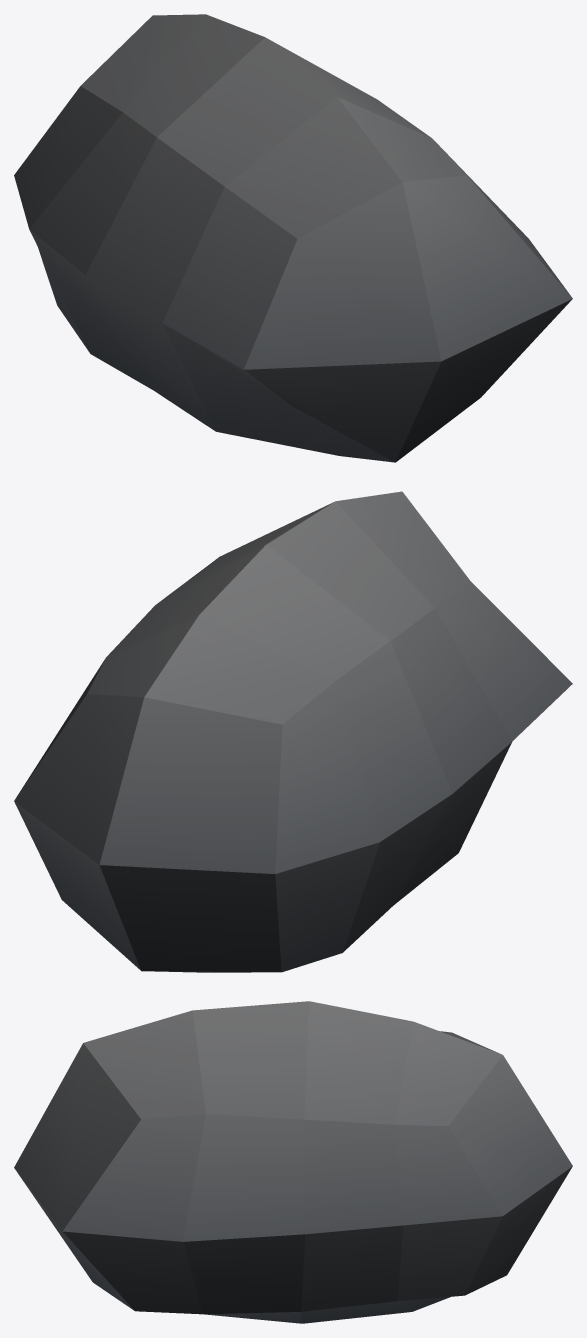
File: Rock_Medium.fbx
The picture shows the model from 3 angles, top to bottom: view 1: azimuth 30°, elevation 25°; view 2: azimuth 150°, elevation 25°; view 3: azimuth 270°, elevation 25°; orthographic projection. The views are drawn at different scales.
Visible parts, largest first — view 1: Rock_Medium; view 2: Rock_Medium; view 3: Rock_Medium.
Part boxes in pixels (x1,y1,x2,y2): Rock_Medium: (14, 14, 572, 462); Rock_Medium: (14, 491, 572, 972); Rock_Medium: (14, 1001, 572, 1323).
Size of the model in its own units: 180 by 177 by 280.
